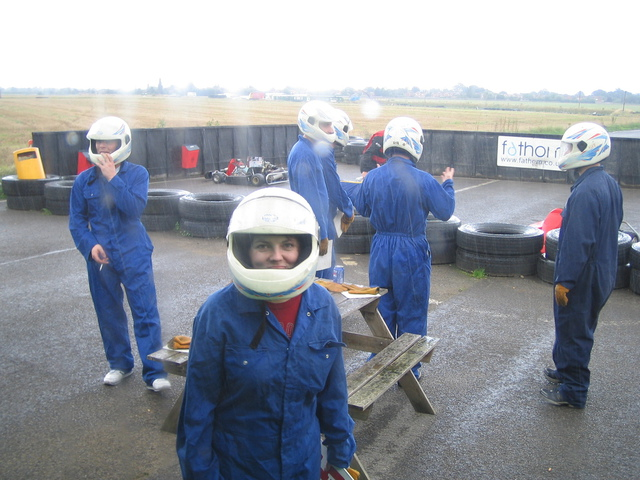helmet: (230, 195, 321, 308), (557, 128, 613, 165), (88, 120, 132, 163), (301, 97, 340, 144), (382, 119, 425, 153)
